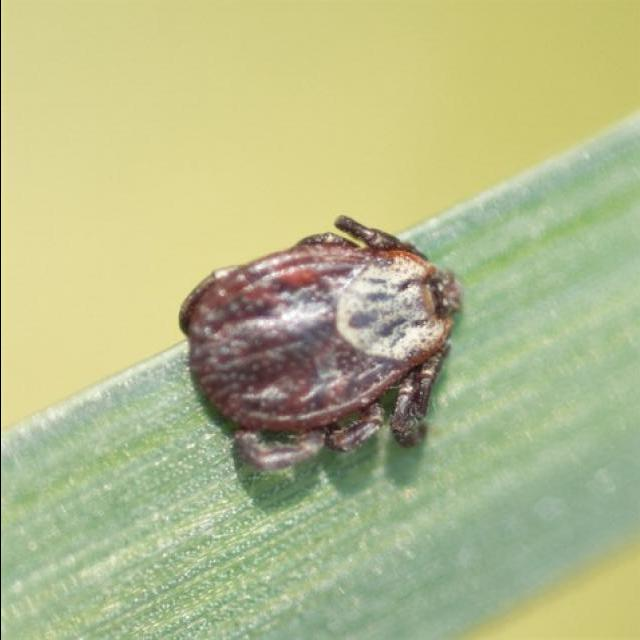Dermacentor Reticulatus-F: (175, 215, 458, 474)
